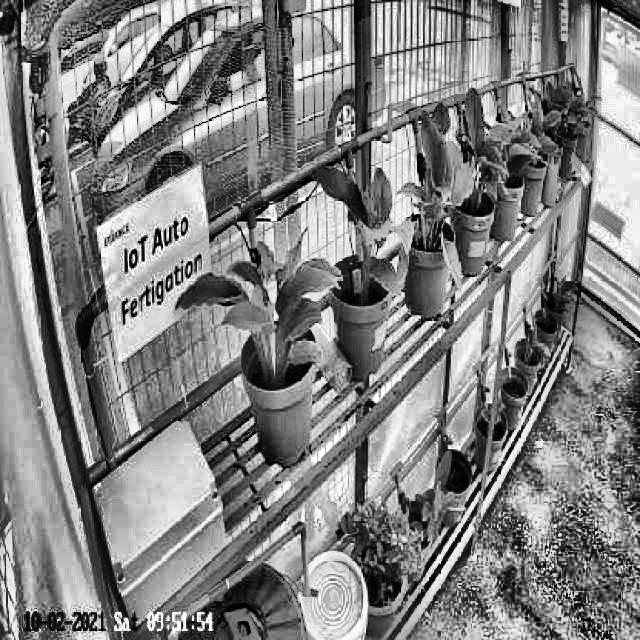plants: (172, 214, 343, 383), (392, 96, 474, 296), (309, 154, 414, 300), (438, 79, 516, 216)
